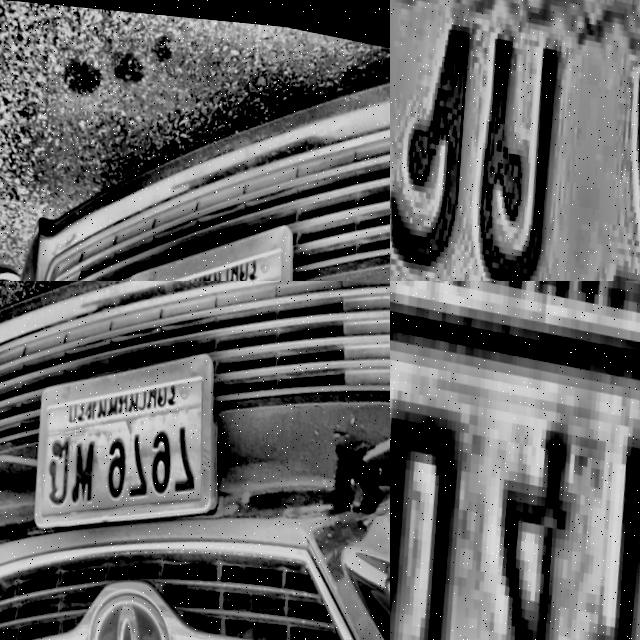license-plate: (390, 281, 640, 640), (390, 0, 640, 281), (20, 307, 231, 564), (111, 187, 309, 281)
